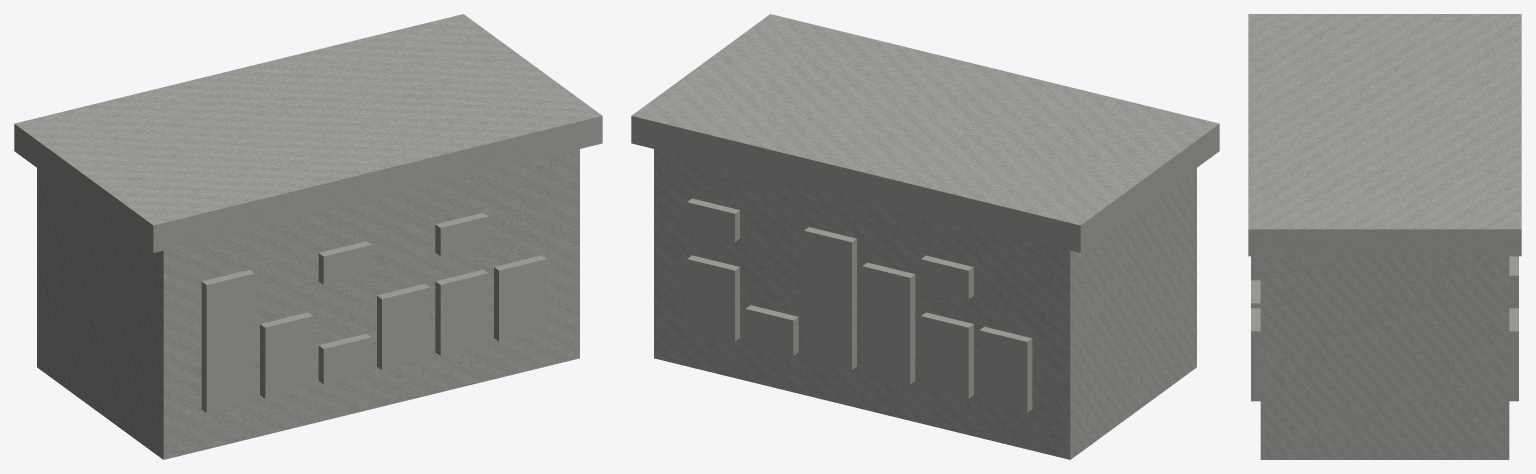
Rendered from andean-terraces-and-stone-village-carved-stone-block-e1aba39d__38257.glb.
The picture shows the model from 3 angles, left to right: view 1: azimuth 30°, elevation 25°; view 2: azimuth 150°, elevation 25°; view 3: azimuth 270°, elevation 25°; orthographic projection.
Visible parts, largest first — view 1: carved-stone-block-stone; view 2: carved-stone-block-stone; view 3: carved-stone-block-stone.
Boxes of the visible parts, x1,y1,x2,y2 form: carved-stone-block-stone: (14,14,602,459); carved-stone-block-stone: (631,14,1219,459); carved-stone-block-stone: (1248,14,1521,459).
Size of the model in its own units: 2.05 by 1.06 by 1.1.
Materials: 1 (1 with a texture image).
